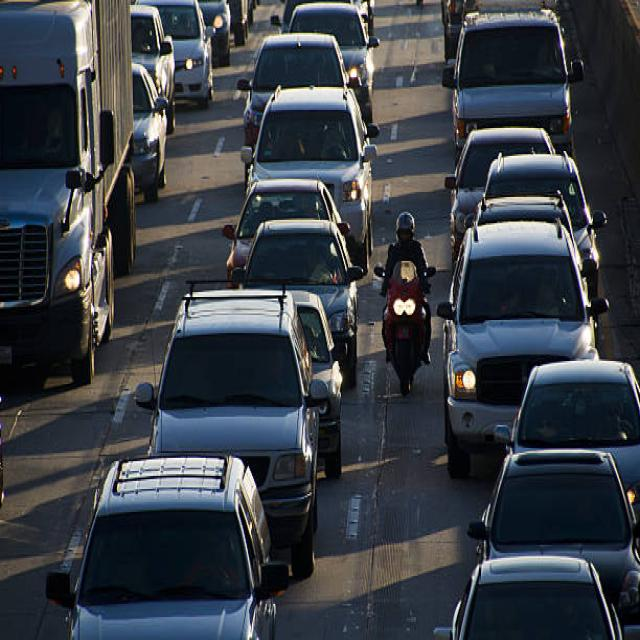high_traffic: (63, 19, 633, 640)
